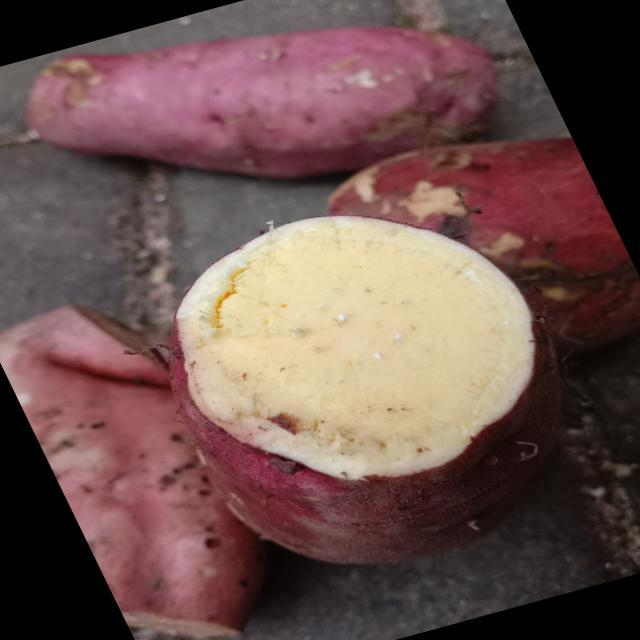Healthy Sweet Potato: (177, 216, 533, 479)
